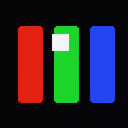1 square: (52, 34, 68, 50)
